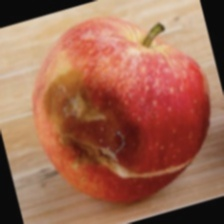apple: (46, 31, 217, 170)
